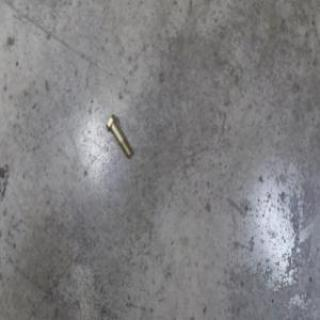Bolttrack_idkeyframe: (104, 114, 131, 160)
